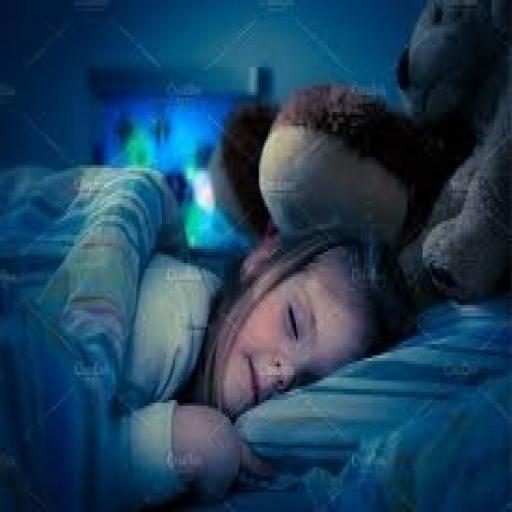sleeping: (0, 121, 416, 512)
